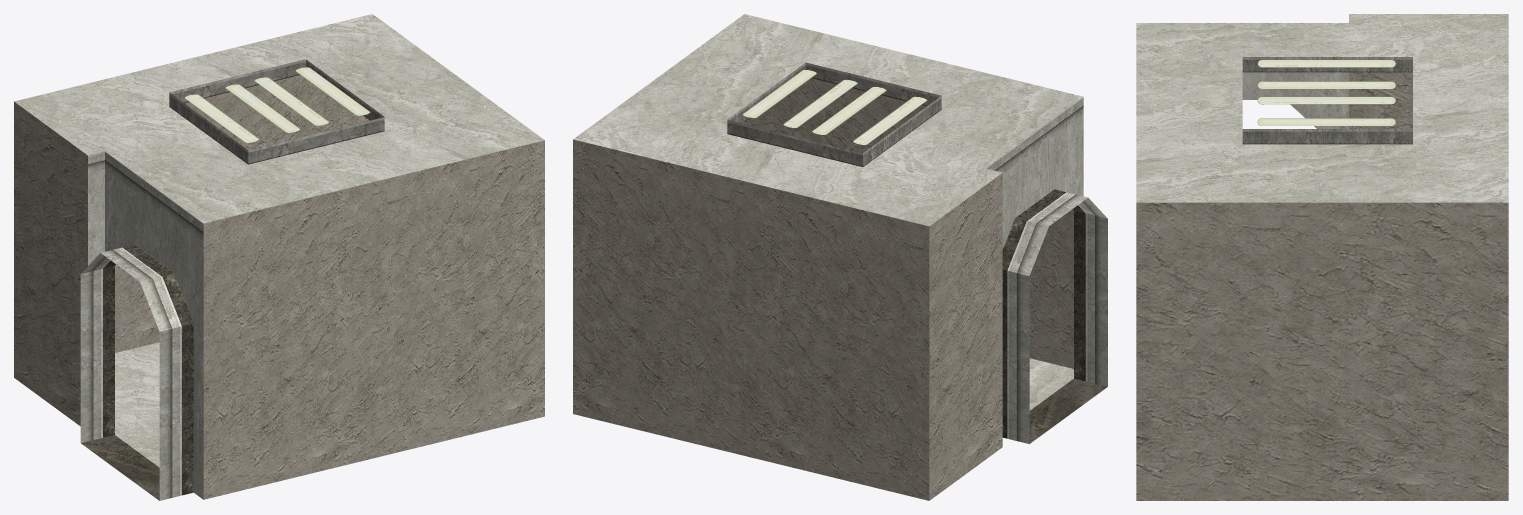
Rendered from ply_tato_assoc_hall_civ_s01_r7_closeta_mesh_closet_a.fbx.
3 renders of one model, left to right at view 1: azimuth 30°, elevation 25°; view 2: azimuth 150°, elevation 25°; view 3: azimuth 270°, elevation 25°, orthographic. The views are drawn at different scales.
Visible parts, largest first — view 1: mesh_node; view 2: mesh_node; view 3: mesh_node.
Boxes of the visible parts, bbox=[...] form: mesh_node: bbox=[14, 14, 544, 500]; mesh_node: bbox=[573, 14, 1107, 500]; mesh_node: bbox=[1136, 14, 1508, 500].
Bounding box in the file's own units: 5.5 × 4.07 × 4.38.
